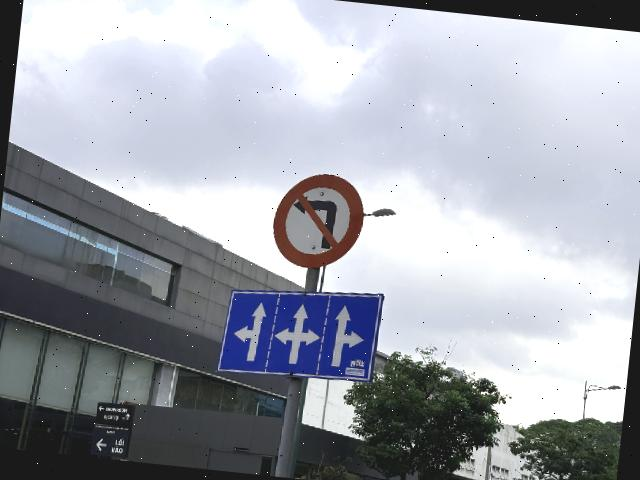cam-re-trai: (268, 168, 368, 274)
